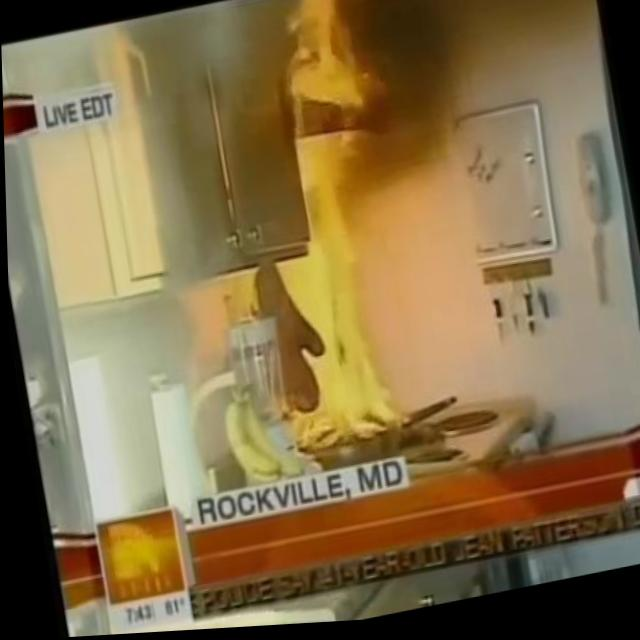fire: (201, 0, 436, 460)
